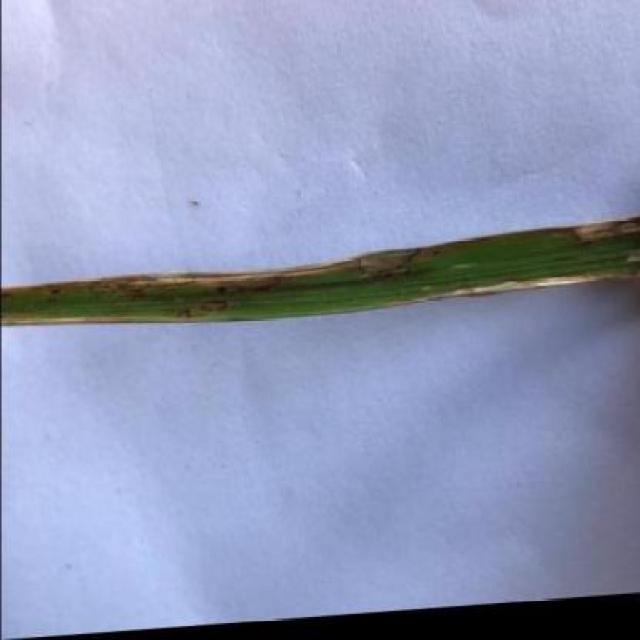Brown_Spot: (0, 225, 640, 344)
